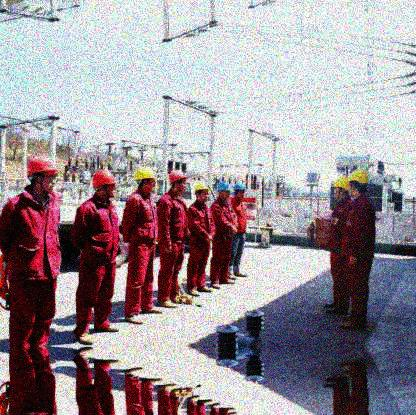helmet: (27, 157, 57, 195), (93, 170, 118, 202), (345, 168, 369, 198), (135, 168, 157, 196), (168, 170, 187, 196), (333, 176, 348, 202), (194, 183, 210, 203), (218, 182, 231, 199), (234, 183, 247, 200)
